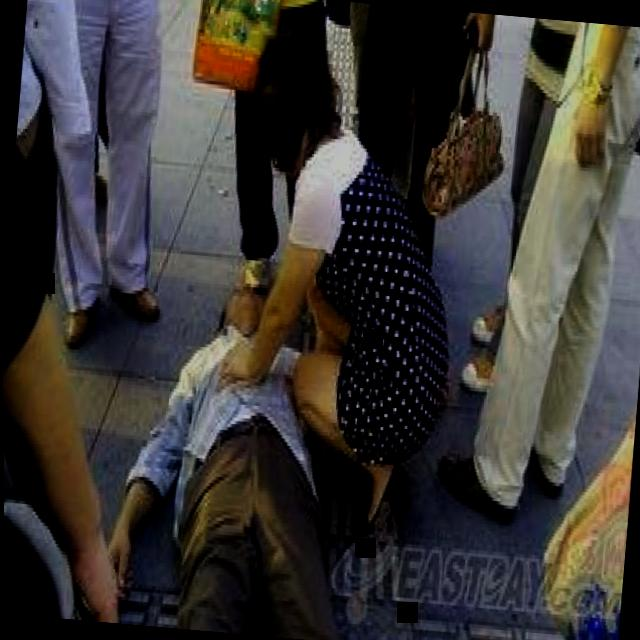Fall-Detected: (94, 242, 399, 635)
